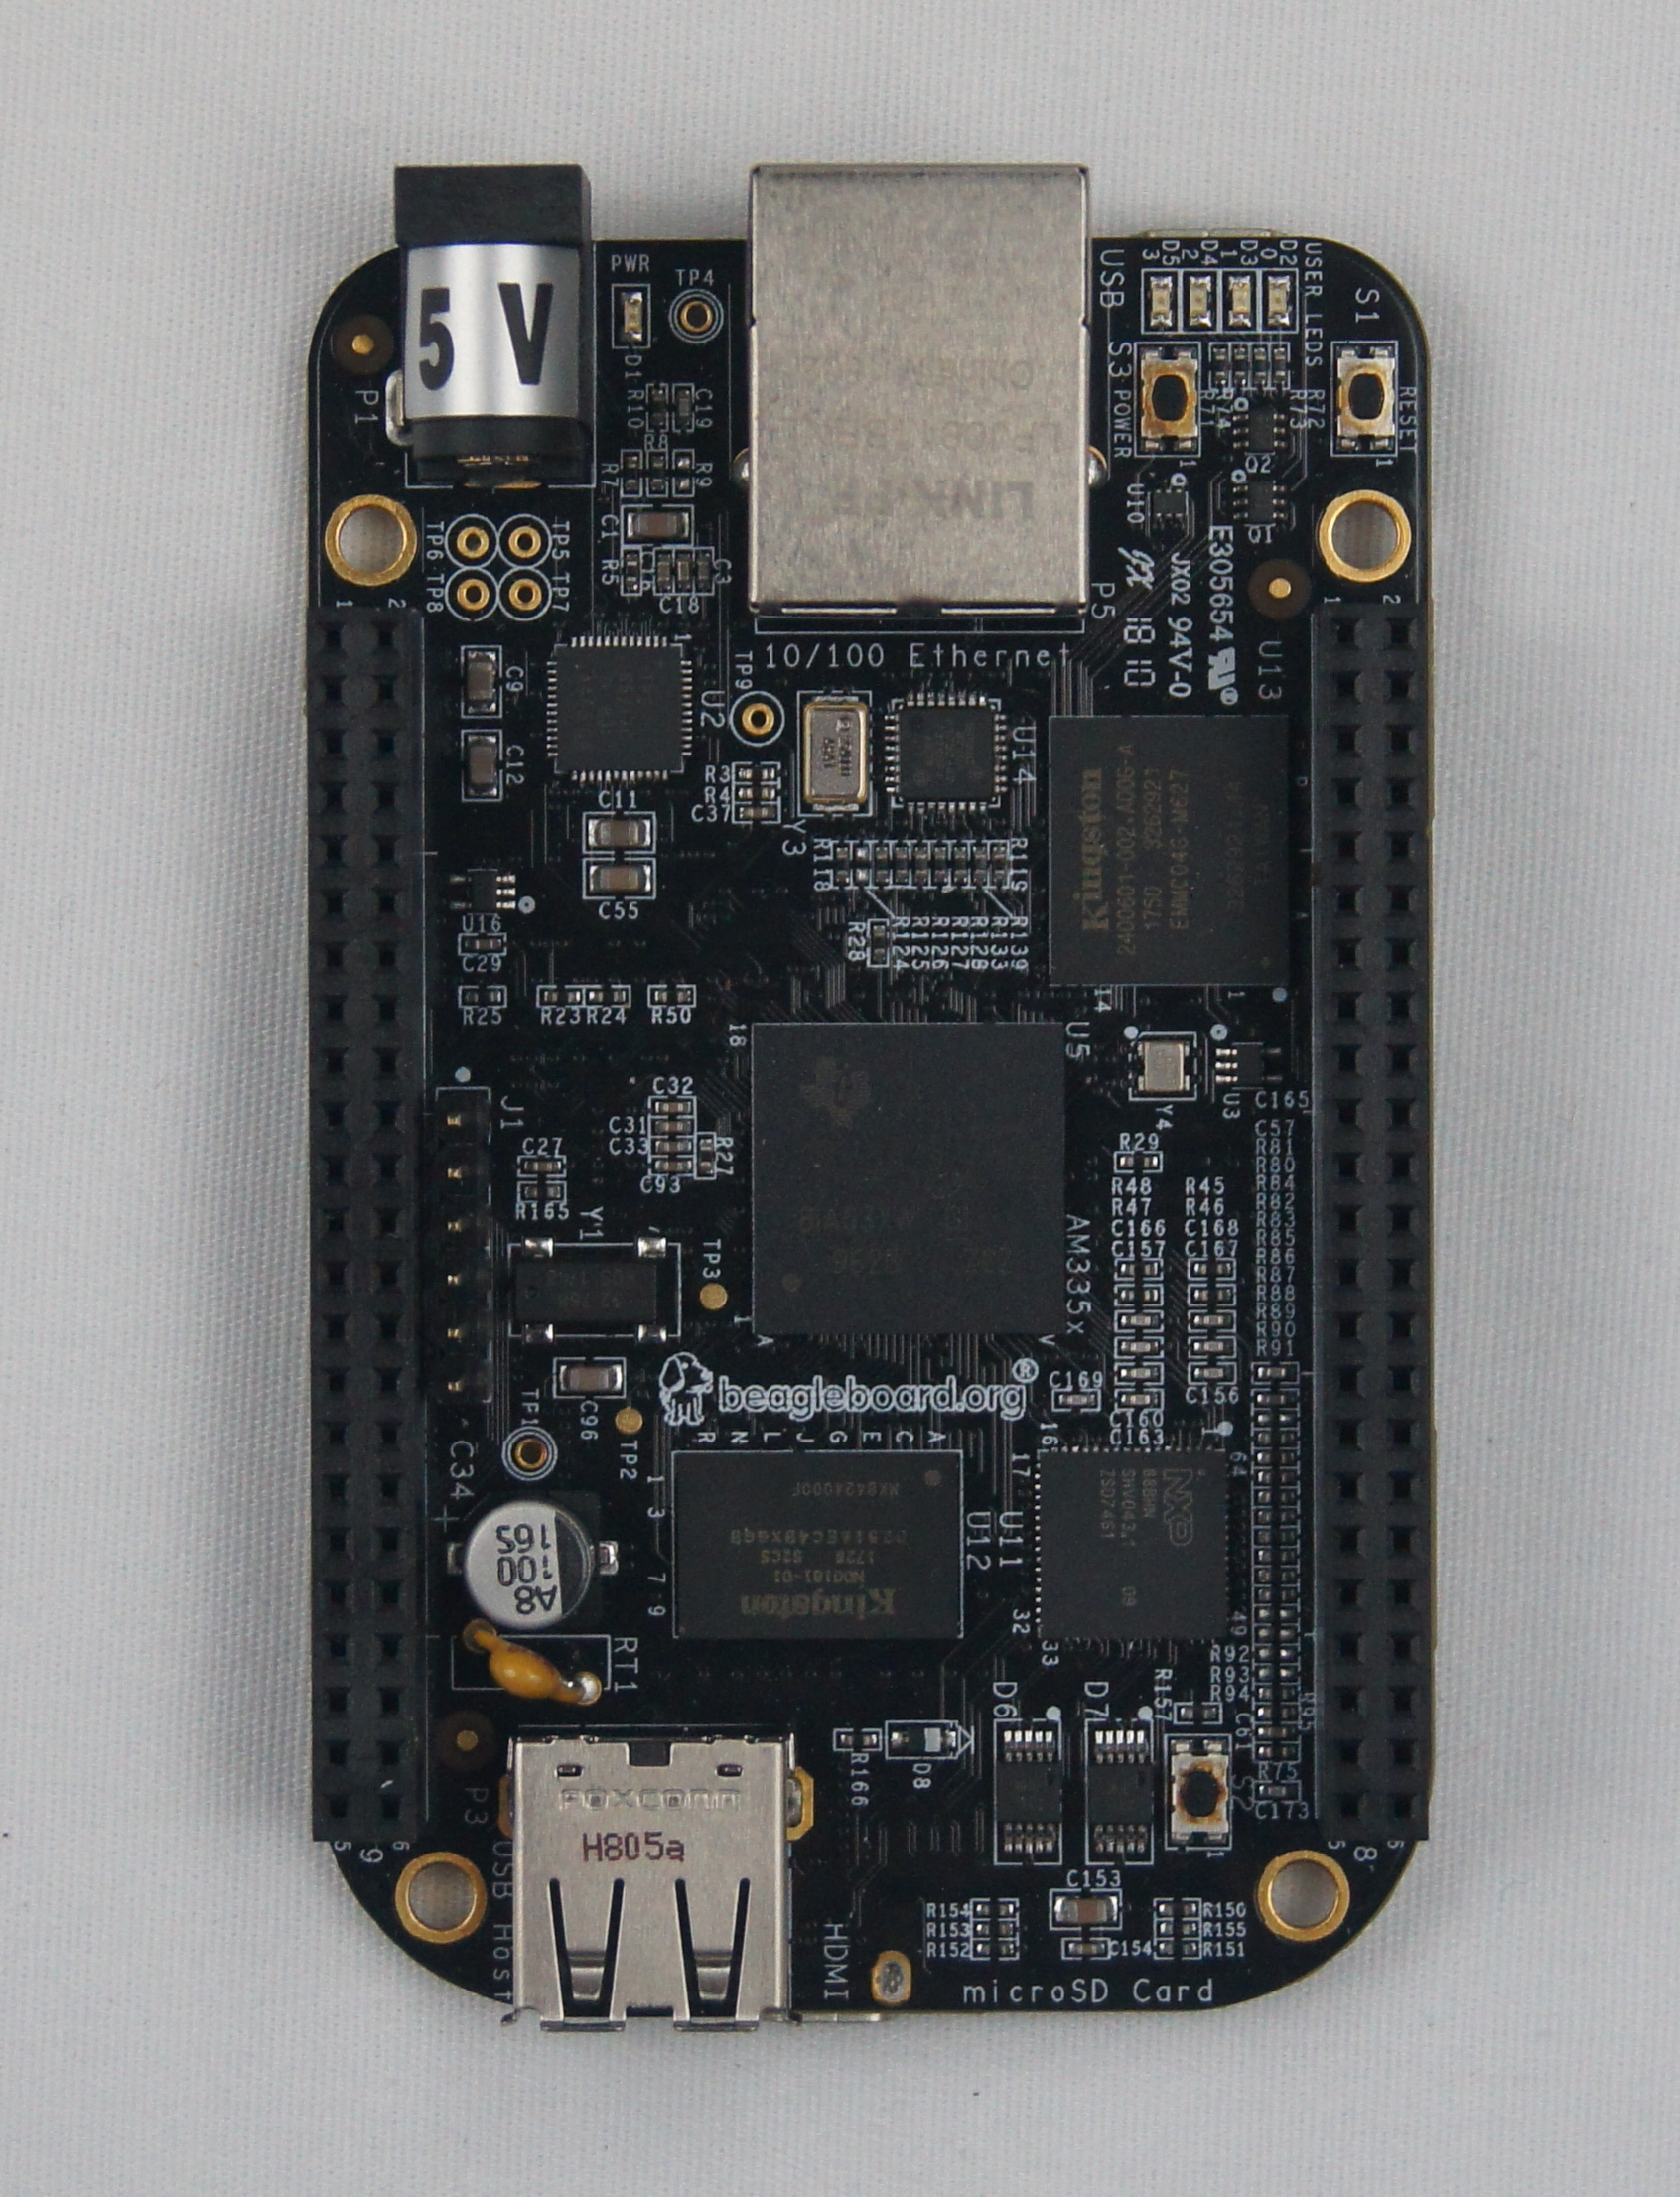kondensator: (445, 1486, 609, 1631), (586, 815, 653, 845), (462, 653, 496, 711), (464, 736, 499, 791), (588, 863, 651, 891), (1052, 1897, 1115, 1925), (628, 514, 685, 536), (1262, 1782, 1306, 1802), (1255, 1364, 1302, 1382), (678, 390, 694, 427), (1193, 1362, 1230, 1378), (1066, 1941, 1106, 1955), (1193, 1339, 1232, 1353), (736, 805, 773, 819), (1253, 1728, 1295, 1740), (1119, 1391, 1154, 1405), (1122, 1313, 1158, 1327), (653, 1101, 692, 1113), (1121, 1343, 1159, 1355), (656, 556, 672, 586), (695, 556, 709, 588), (1057, 1392, 1089, 1406), (676, 554, 688, 588), (655, 1138, 688, 1151), (1124, 1366, 1158, 1378), (1195, 1313, 1234, 1323), (466, 937, 498, 949), (655, 1119, 688, 1129), (655, 1159, 688, 1168), (522, 1161, 559, 1168)
